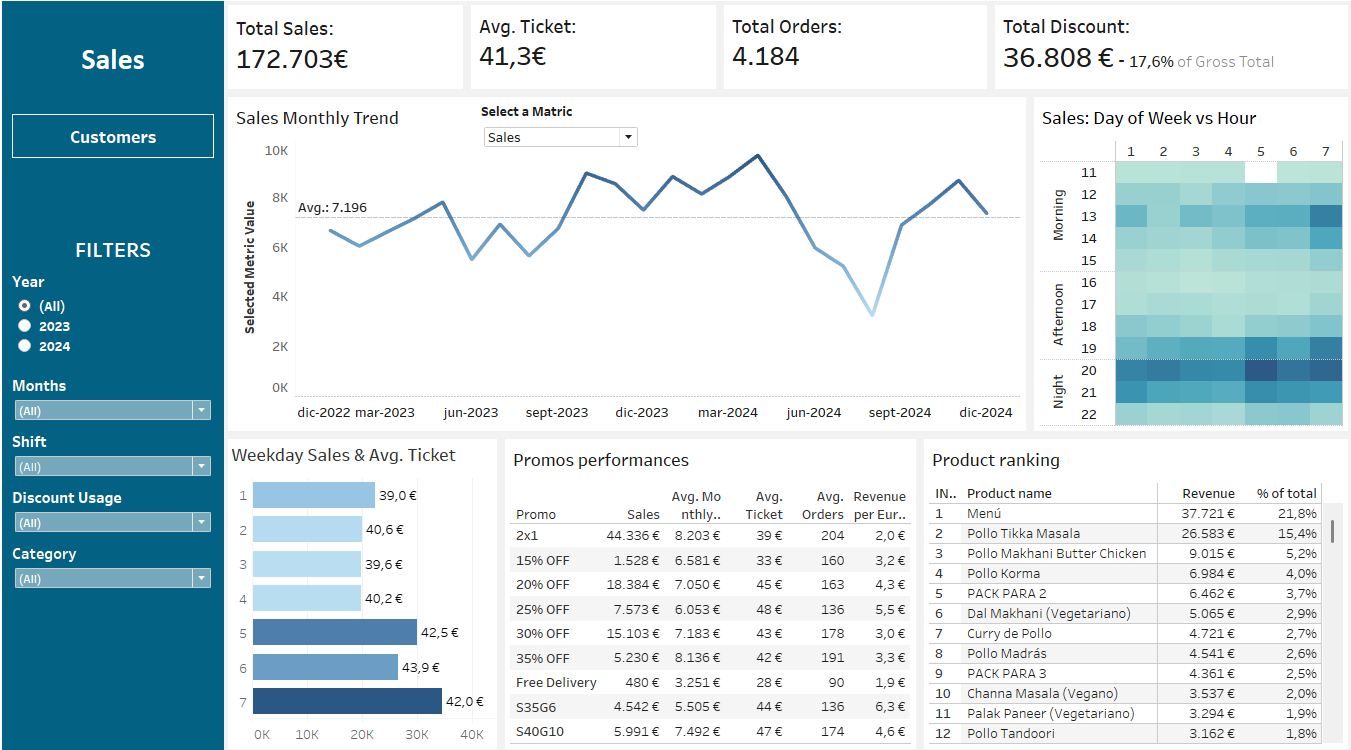

The dashboard page shown, as its layout file describes it:
{"tool":"tableau","page":{"name":"Sales Dashboard","canvas":[1366,768],"ordinal":1},"visuals":[{"type":"worksheet","title":"Total Sales","mark":"Automatic","box":[229.8,8,243,92]},{"type":"worksheet","title":"Avg. Ticket","mark":"Automatic","box":[472.9,8,253,92]},{"type":"worksheet","title":"Total Orders","mark":"Automatic","box":[725.9,8,271,92]},{"type":"worksheet","title":"Total Discount","mark":"Automatic","box":[996.9,8,361.1,92]},{"type":"text","box":[14,14,209.8,103]},{"type":"worksheet","title":"Sales Trend","mark":"Automatic","rows":["Calculation_2779283927046856704"],"cols":["order_date"],"box":[229.8,100,1128.2,228]},{"type":"parameter","param":"[Parameters].[Parameter 1]","box":[487,109,160,48]},{"type":"dashboard-object","box":[14,117,209.8,52]},{"type":"text","box":[14,169,209.8,89]},{"type":"filter","title":"Sales Trend","param":"[federated.16ij4cu1g5t8ux11aa9n81nwd3ul].[none:year:nk]","box":[14,258,209.8,104]},{"type":"worksheet","title":"Sales by Weekday/Shift","mark":"Automatic","rows":["weekday"],"cols":["shift","hour"],"box":[229.8,328,521.2,214]},{"type":"worksheet","title":"Promos performances","mark":"Automatic","rows":["promo"],"box":[751,328,607,214]},{"type":"filter","title":"Sales Trend","param":"[federated.16ij4cu1g5t8ux11aa9n81nwd3ul].[mn:order_date:ok]","box":[14,362,209.8,56]},{"type":"filter","title":"Order value distribution","param":"[federated.16ij4cu1g5t8ux11aa9n81nwd3ul].[none:shift:nk]","box":[14,418,209.8,56]},{"type":"filter","title":"Total Discount","param":"[federated.16ij4cu1g5t8ux11aa9n81nwd3ul].[none:discount_usage:nk]","box":[14,474,209.8,56]},{"type":"filter","title":"Sales Trend","param":"[federated.16ij4cu1g5t8ux11aa9n81nwd3ul].[none:weekday:ok]","box":[14,530,209.8,56]},{"type":"worksheet","title":"Order value distribution","mark":"Automatic","rows":["invoice_no"],"cols":["Total (bin)"],"box":[229.8,542,401.2,218]},{"type":"worksheet","title":"Product ranking","mark":"Automatic","rows":["Calculation_1529535028925022210","name","category"],"box":[631,542,727,218]},{"type":"filter","title":"Sales Trend","param":"[federated.16ij4cu1g5t8ux11aa9n81nwd3ul].[none:day_type:nk]","box":[14,586,209.8,56]},{"type":"filter","title":"Product ranking","param":"[federated.16ij4cu1g5t8ux11aa9n81nwd3ul].[none:name:nk]","box":[14,642,209.8,56]},{"type":"filter","title":"Product ranking","param":"[federated.16ij4cu1g5t8ux11aa9n81nwd3ul].[none:category:nk]","box":[14,698,209.8,56]}]}

Visuals, with their boxes in screenshot pixels (x1, y1, x2, y2), scaled from the page's 1366x768 canvas onto the 1351x750 screenshot:
"Total Sales" worksheet: crop(227, 8, 468, 98)
"Avg. Ticket" worksheet: crop(468, 8, 718, 98)
"Total Orders" worksheet: crop(718, 8, 986, 98)
"Total Discount" worksheet: crop(986, 8, 1343, 98)
text: crop(14, 14, 221, 114)
"Sales Trend" worksheet: crop(227, 98, 1343, 320)
parameter: crop(482, 106, 640, 153)
dashboard-object: crop(14, 114, 221, 165)
text: crop(14, 165, 221, 252)
"Sales Trend" filter: crop(14, 252, 221, 354)
"Sales by Weekday/Shift" worksheet: crop(227, 320, 743, 529)
"Promos performances" worksheet: crop(743, 320, 1343, 529)
"Sales Trend" filter: crop(14, 354, 221, 408)
"Order value distribution" filter: crop(14, 408, 221, 463)
"Total Discount" filter: crop(14, 463, 221, 518)
"Sales Trend" filter: crop(14, 518, 221, 572)
"Order value distribution" worksheet: crop(227, 529, 624, 742)
"Product ranking" worksheet: crop(624, 529, 1343, 742)
"Sales Trend" filter: crop(14, 572, 221, 627)
"Product ranking" filter: crop(14, 627, 221, 682)
"Product ranking" filter: crop(14, 682, 221, 736)
